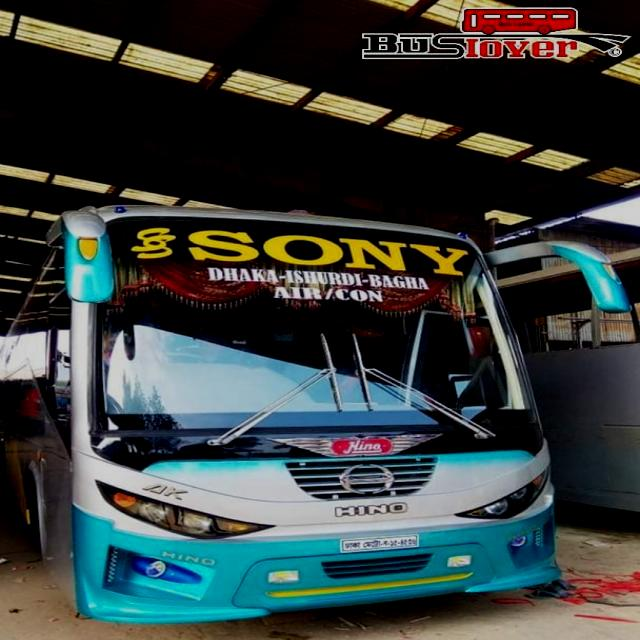bus: (1, 206, 631, 628)
